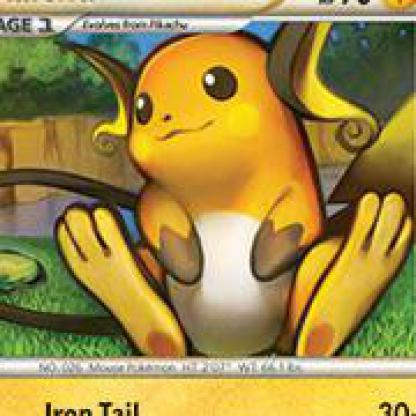Raichu: (1, 3, 415, 415)
